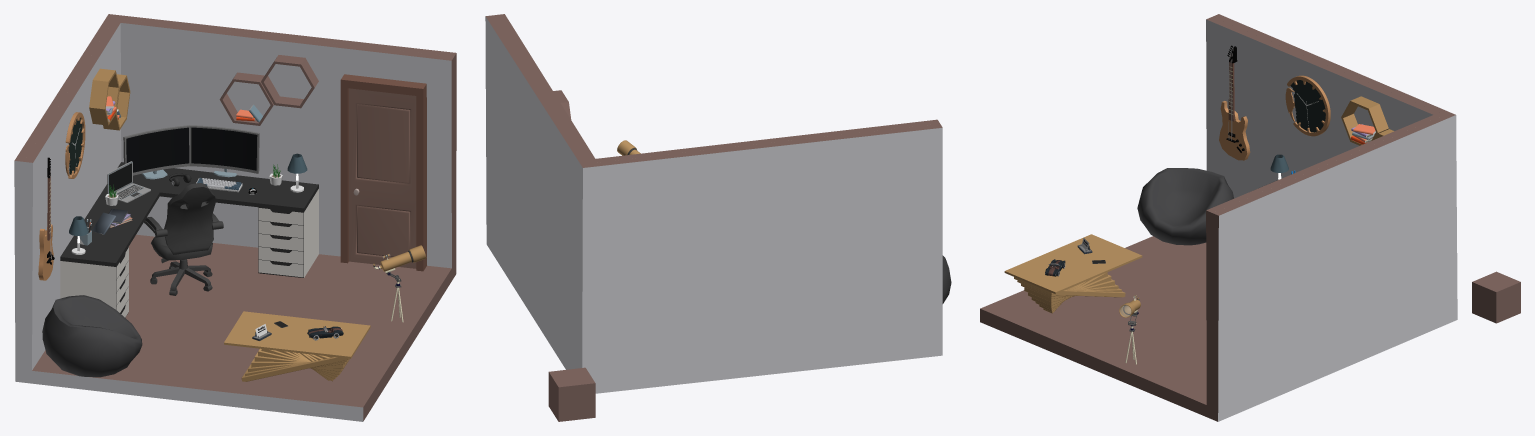
Rendered from Finale.glb.
The picture shows the model from 3 angles, left to right: view 1: azimuth 30°, elevation 25°; view 2: azimuth 150°, elevation 25°; view 3: azimuth 270°, elevation 25°; orthographic projection. The views are drawn at different scales.
Parts seen in each view (by area): view 1: Body, Door, Table main, Screens, Table, Cushion Bag, Office Chair, Shelves, Books, Clock, Guitar, Telescope (+2 smaller); view 2: Body, Cube; view 3: Body, Cushion Bag, Table, Clock, Cube, Guitar, Shelves, Telescope.
Boxes of the visible parts, bbox=[...] form: Body: bbox=[14, 14, 456, 421]; Door: bbox=[340, 74, 426, 271]; Table main: bbox=[60, 162, 318, 317]; Screens: bbox=[107, 125, 259, 202]; Table: bbox=[224, 311, 370, 381]; Cushion Bag: bbox=[42, 295, 142, 377]; Office Chair: bbox=[144, 183, 223, 295]; Shelves: bbox=[89, 55, 318, 130]; Books: bbox=[92, 96, 262, 234]; Clock: bbox=[65, 112, 85, 178]; Guitar: bbox=[38, 157, 54, 280]; Telescope: bbox=[373, 245, 426, 322]; Body: bbox=[485, 14, 942, 393]; Cube: bbox=[548, 367, 595, 421]; Body: bbox=[980, 14, 1457, 421]; Cushion Bag: bbox=[1137, 168, 1233, 245]; Table: bbox=[1004, 234, 1142, 313]; Clock: bbox=[1285, 75, 1330, 136]; Cube: bbox=[1472, 271, 1520, 323]; Guitar: bbox=[1219, 45, 1250, 160]; Shelves: bbox=[1341, 96, 1393, 145]; Telescope: bbox=[1119, 295, 1140, 364].
Bounding box in the file's own units: 4.78 × 2.29 × 5.41.
70 materials, 5 textured.
